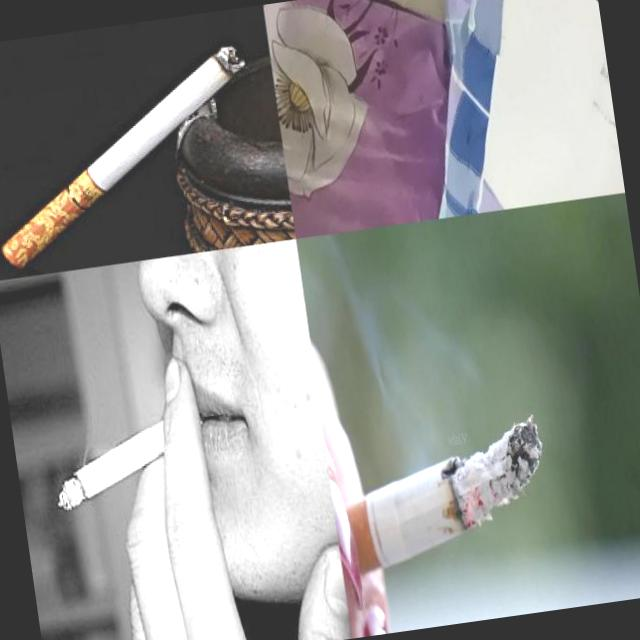smoke: (0, 42, 271, 270), (325, 411, 560, 592), (46, 406, 210, 513)
